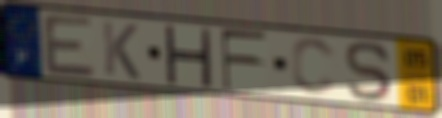C: (289, 36, 340, 99)
E: (40, 12, 99, 81)
F: (218, 28, 270, 93)
H: (161, 22, 213, 90)
K: (100, 18, 143, 82)
S: (343, 39, 397, 105)
